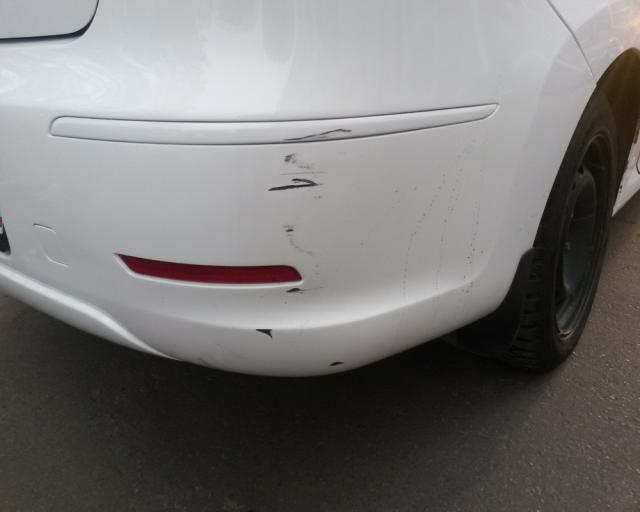scratch: (251, 129, 356, 340)
